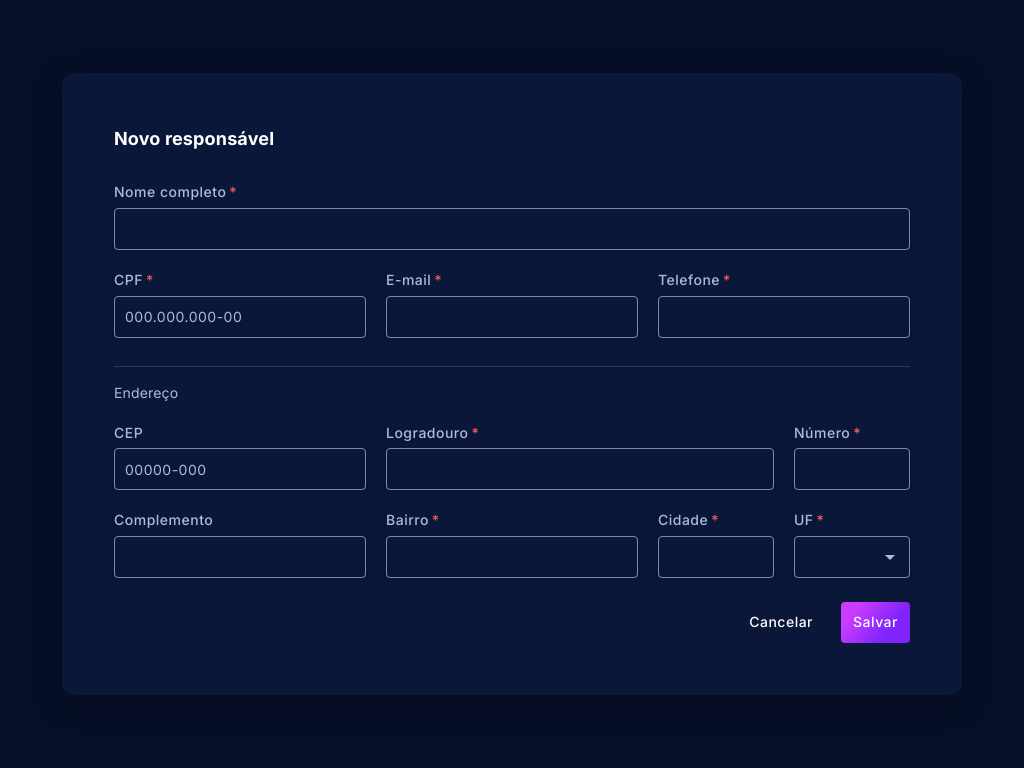
Test: GuardianFormDialog › masks the CPF as it is typed
The image size is (1024, 768).
Type "12345678909" into the field labelled "CPF *".
click(240, 317); type("12345678909")  # box left=125, top=306, right=355, bottom=327
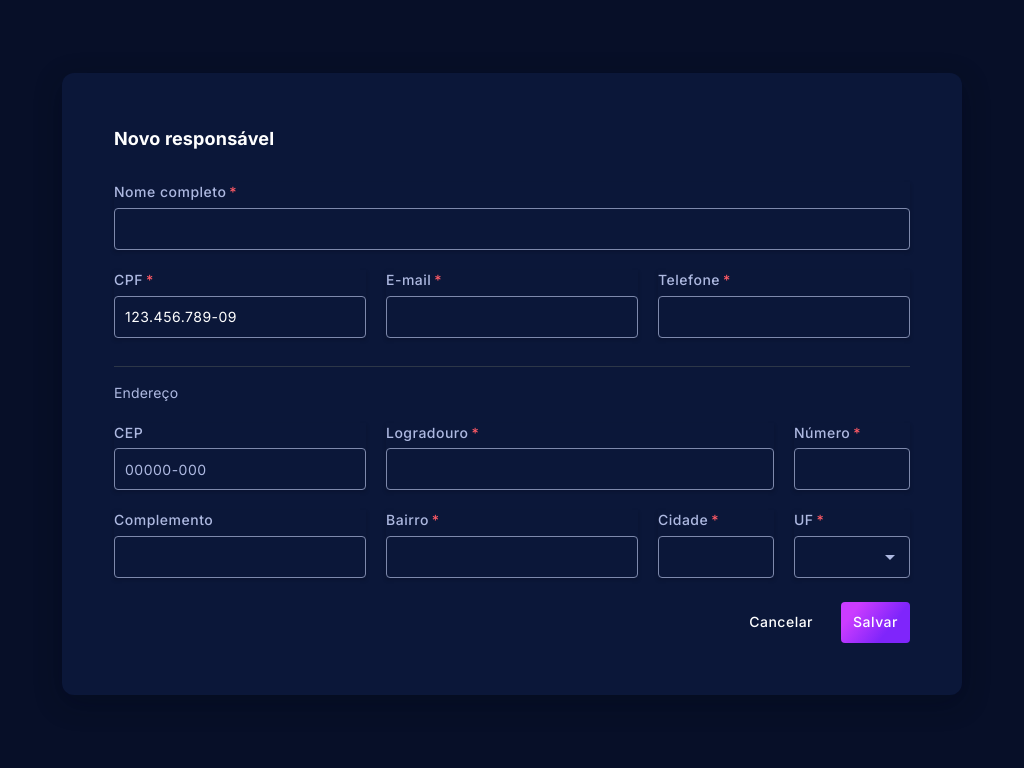
Check: the field labelled "CPF *" holds "123.456.789-09", box left=125, top=306, right=355, bottom=327
